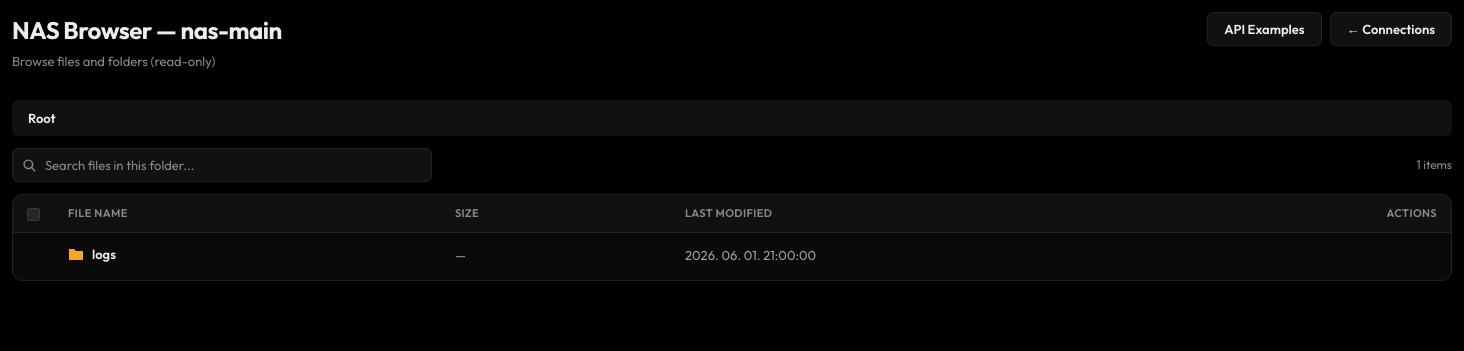
Test: NasBrowser page › descends into a folder using entry.path
Click the icon "logs": (92, 254) x1=68 y1=244 x2=116 y2=264
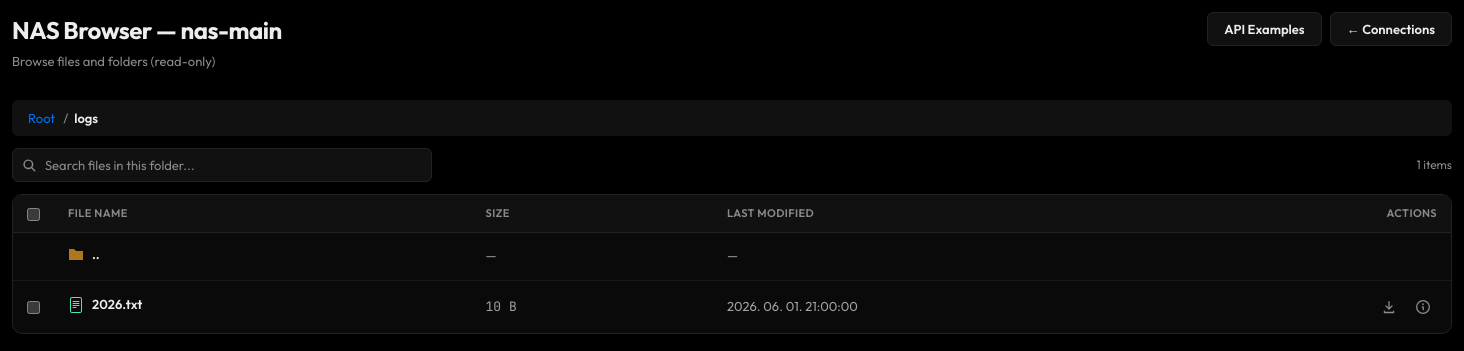
Check: the navigation bar named "NAS path" is shown, box x1=12 y1=100 x2=1452 y2=136
Check: the button "2026.txt" is shown, box x1=68 y1=295 x2=142 y2=315
